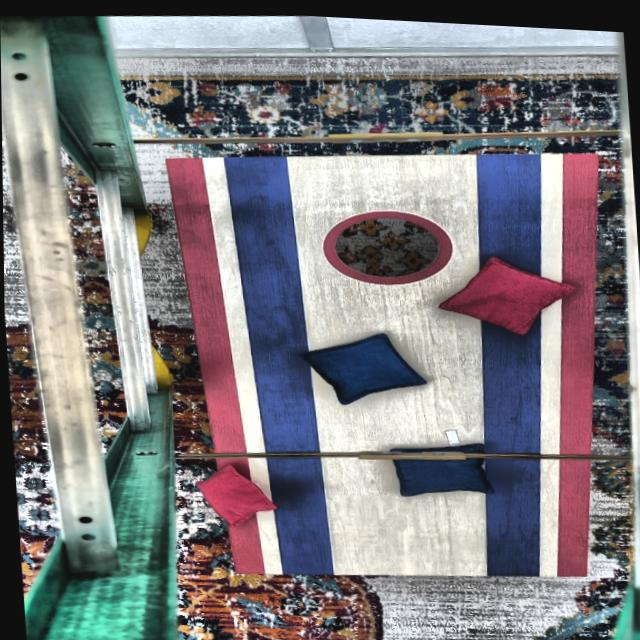blue-bean-bag: (297, 324, 425, 408), (388, 433, 490, 496)
board: (210, 136, 584, 585)
hole: (319, 200, 456, 287)
red-bean-bag: (432, 245, 577, 335), (187, 457, 275, 525)
